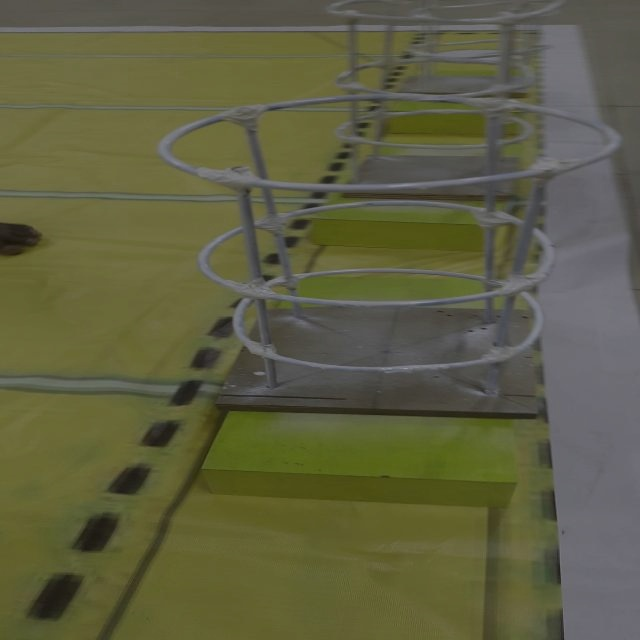silo: (168, 98, 621, 416), (291, 0, 586, 208)
